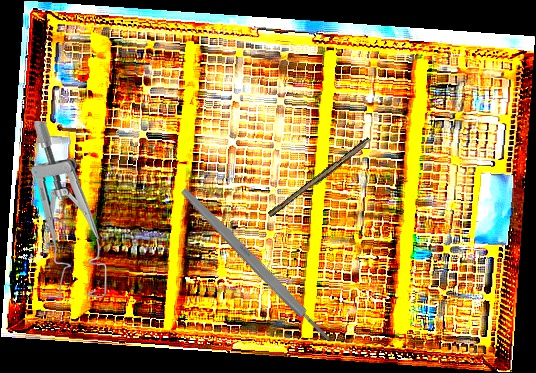Scalpel Handle: (179, 186, 333, 344), (267, 135, 373, 221)
Speculum: (27, 121, 111, 299)
